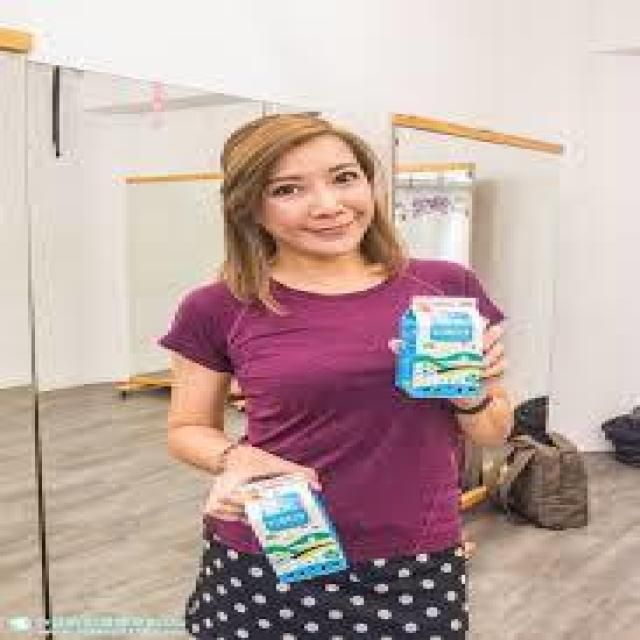TongYi_UnsweetenedBlackSoyMilk: (236, 468, 343, 588), (395, 290, 497, 404)
